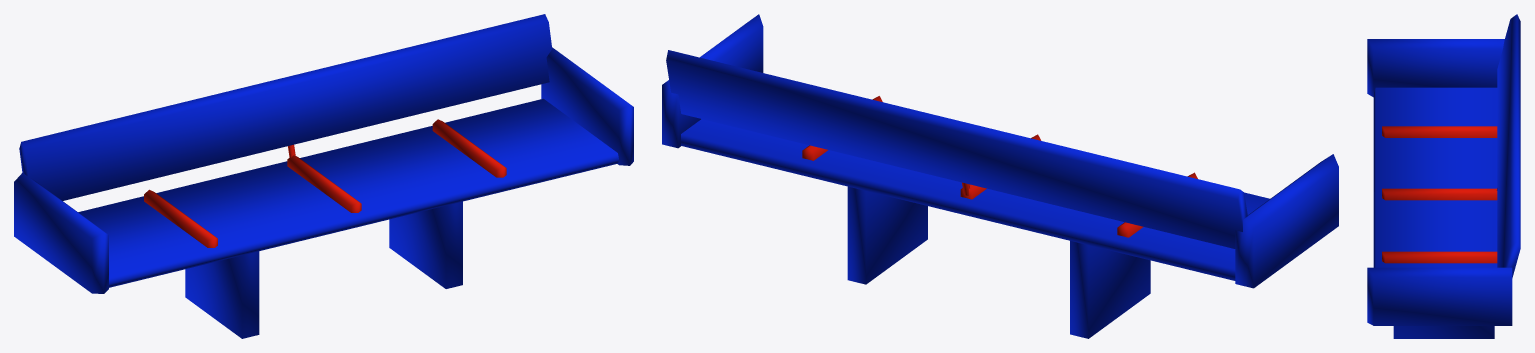
Rendered from bench 1.fbx.
The picture shows the model from 3 angles, left to right: view 1: azimuth 30°, elevation 25°; view 2: azimuth 150°, elevation 25°; view 3: azimuth 270°, elevation 25°; orthographic projection. The views are drawn at different scales.
Parts seen in each view (by area): view 1: Cube.003; view 2: Cube.003; view 3: Cube.003.
Part boxes in pixels (<box>): Cube.003: <box>14,14,633,338</box>; Cube.003: <box>662,14,1338,338</box>; Cube.003: <box>1367,14,1520,338</box>.
Size of the model in its own units: 210 by 67.98 by 57.82.
